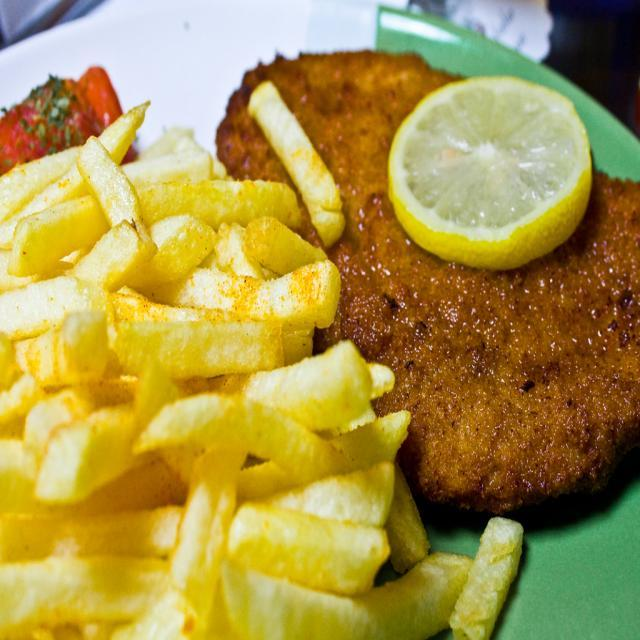Lemon: (394, 76, 588, 261)
